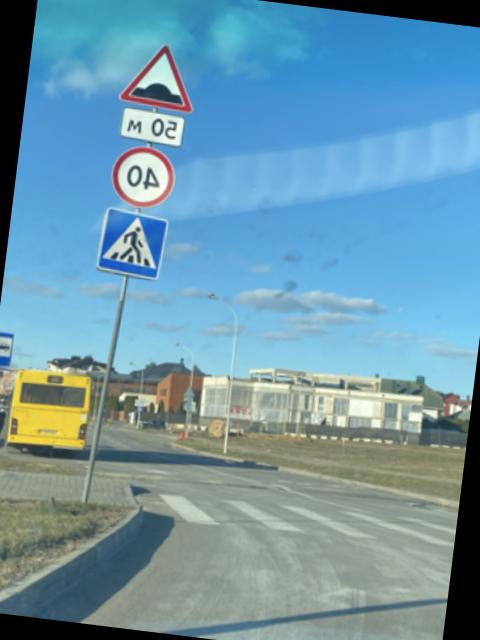crosswalk-sign: (97, 206, 172, 281)
